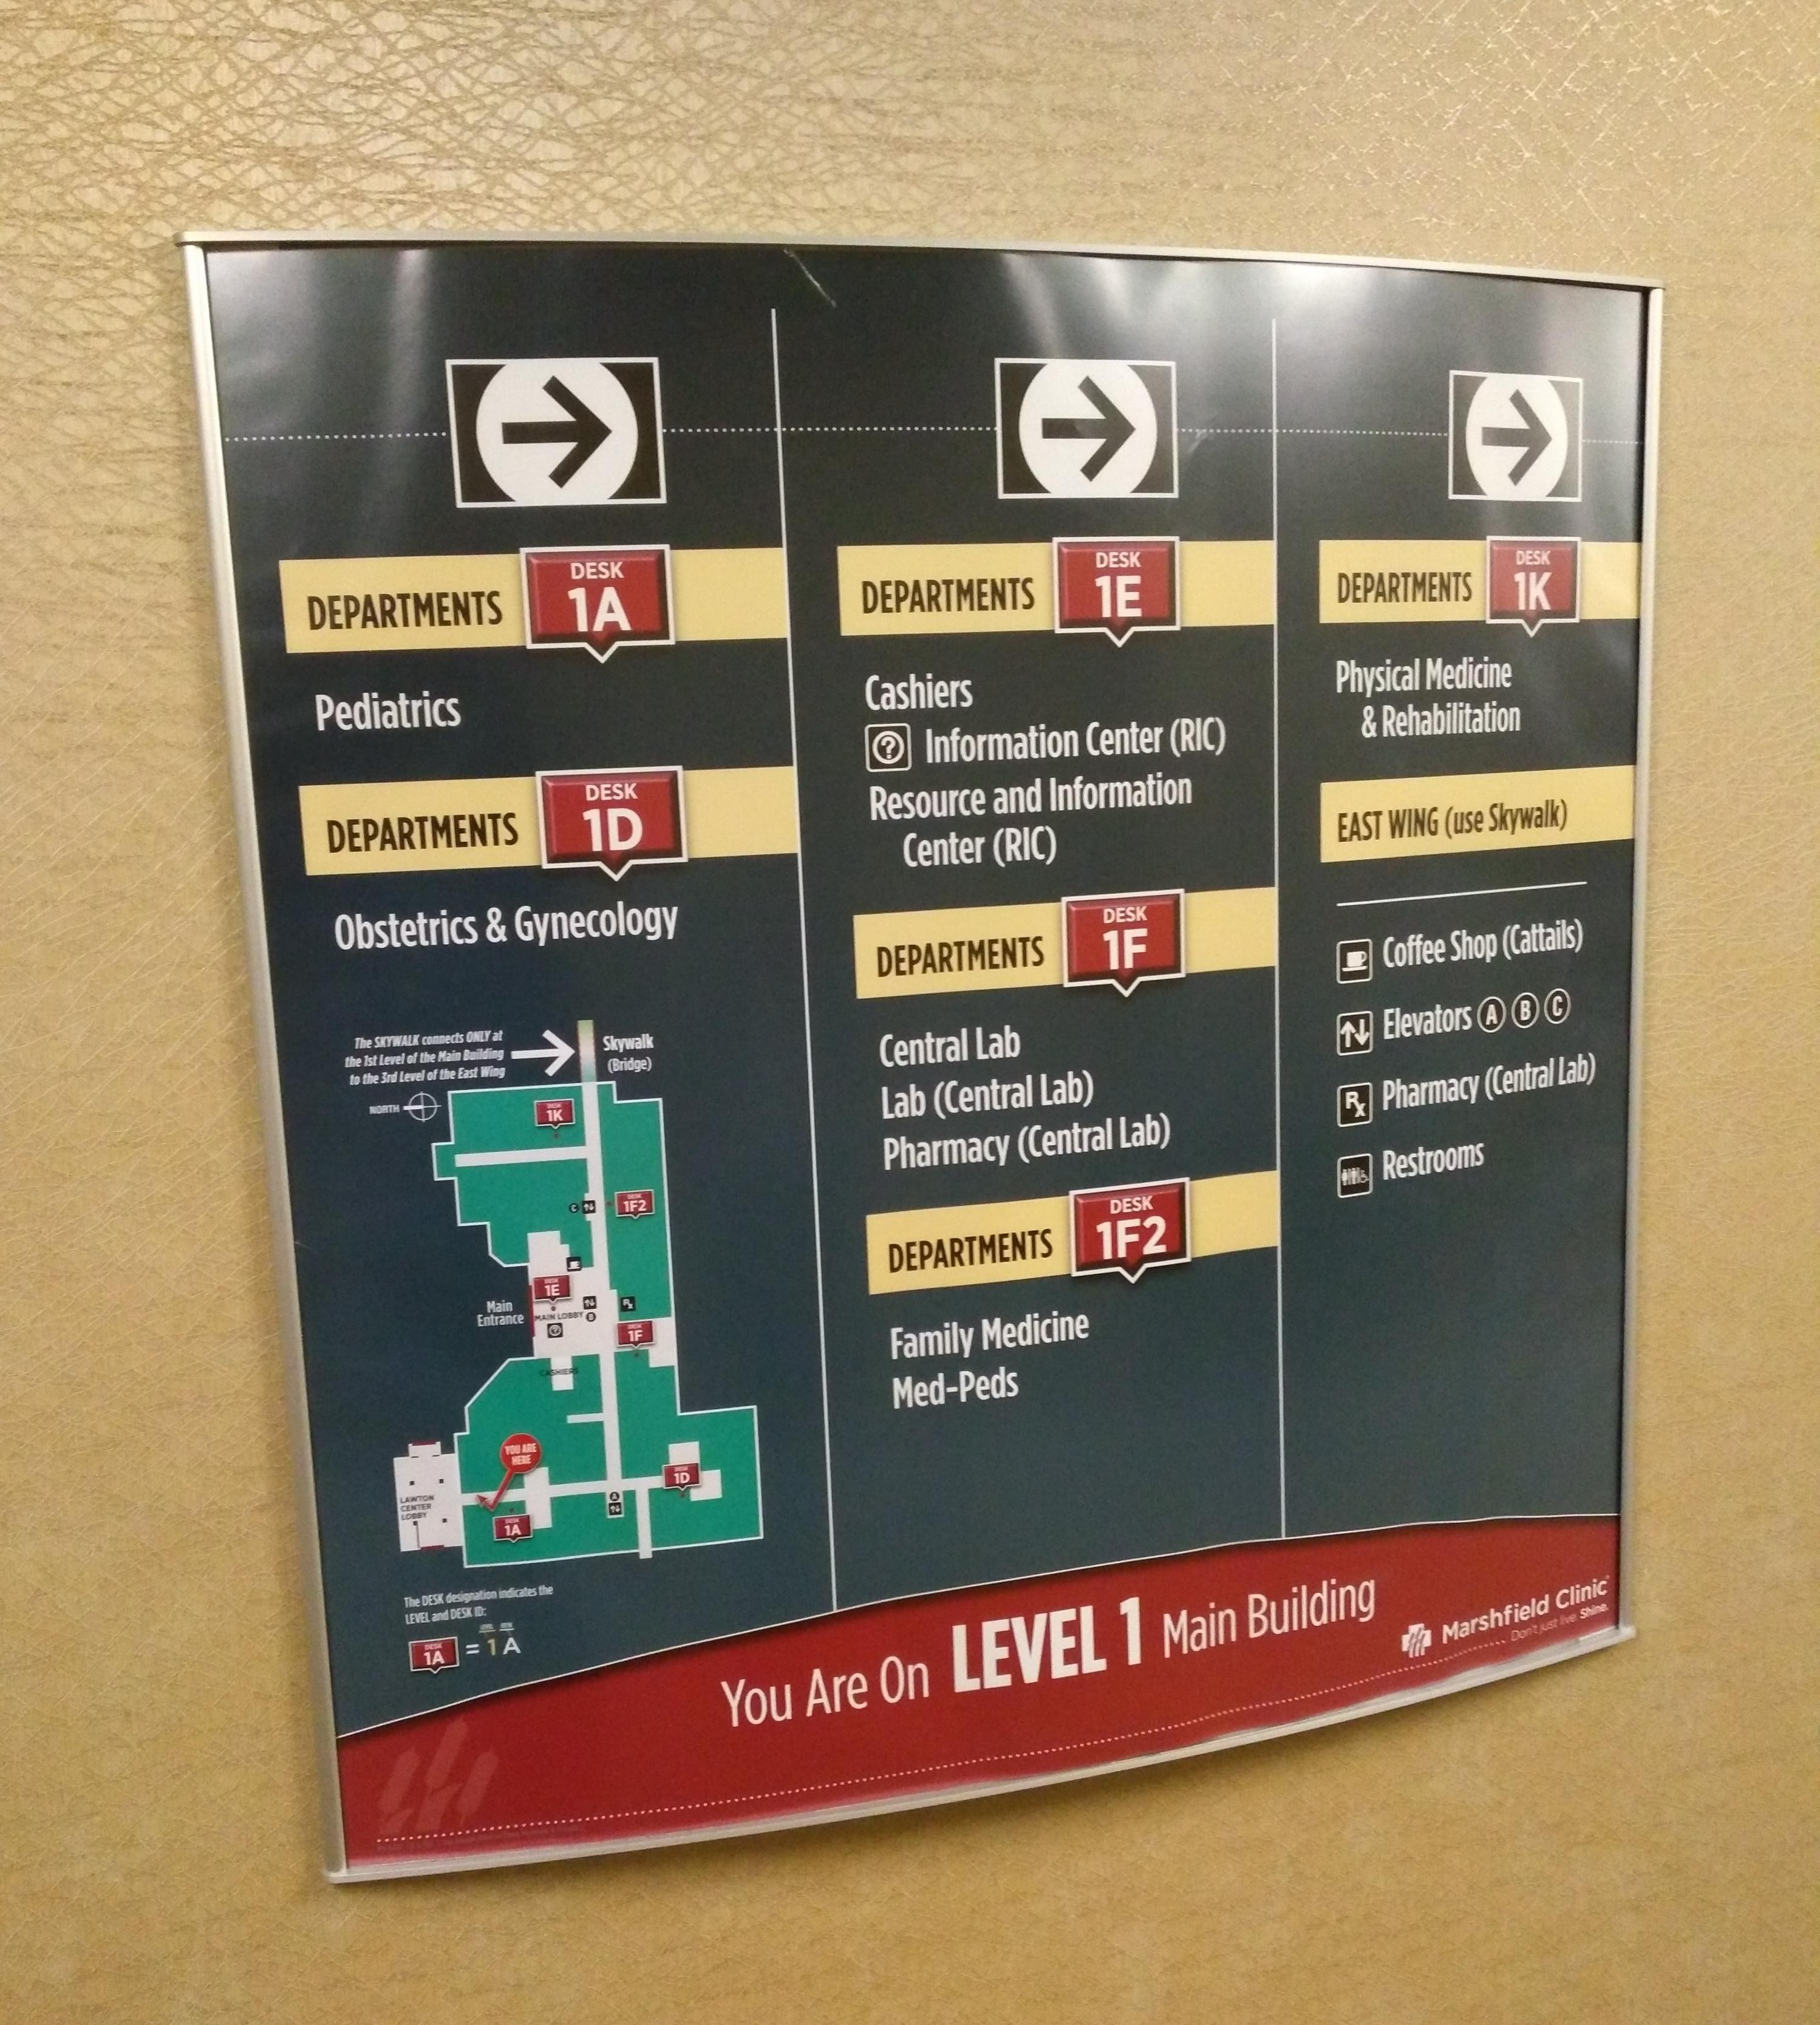sign: (179, 225, 1665, 1884)
